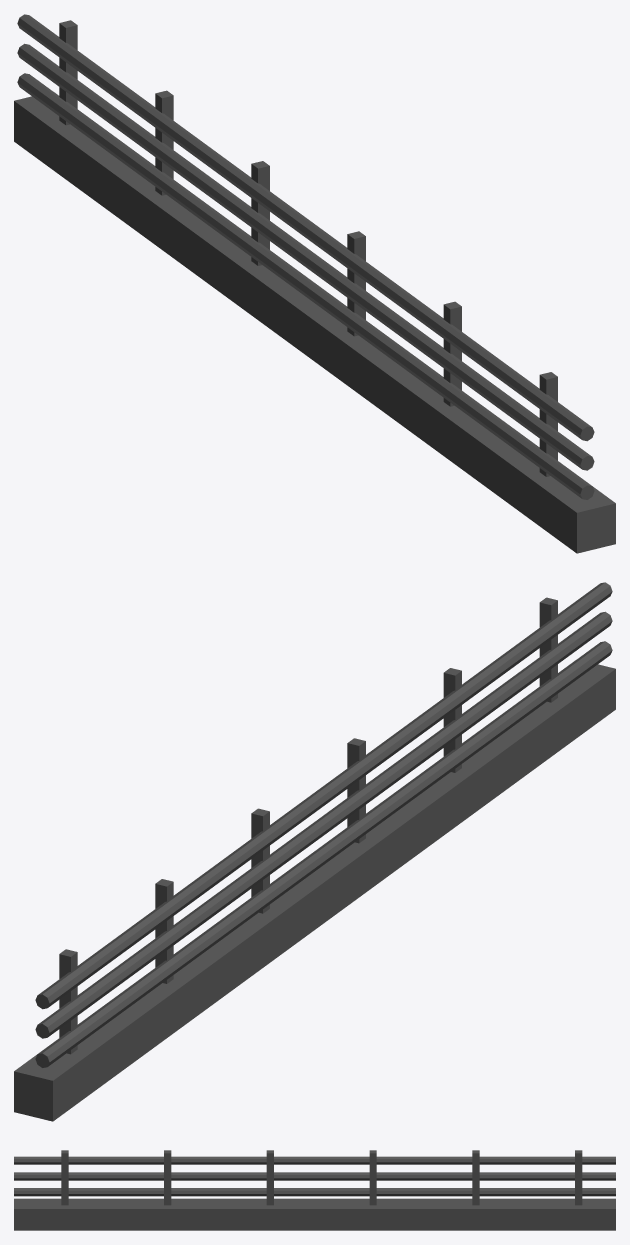
Rendered from Bridge_Fence.fbx.
3 renders of one model, top to bottom at view 1: azimuth 30°, elevation 25°; view 2: azimuth 150°, elevation 25°; view 3: azimuth 270°, elevation 25°, orthographic. The views are drawn at different scales.
Visible parts, largest first — view 1: Cube; view 2: Cube; view 3: Cube.
Part boxes in pixels (bbox=[...]): Cube: bbox=[14, 14, 615, 553]; Cube: bbox=[14, 582, 615, 1121]; Cube: bbox=[14, 1150, 615, 1230].
Size of the model in its own units: 80 by 271 by 2000.
